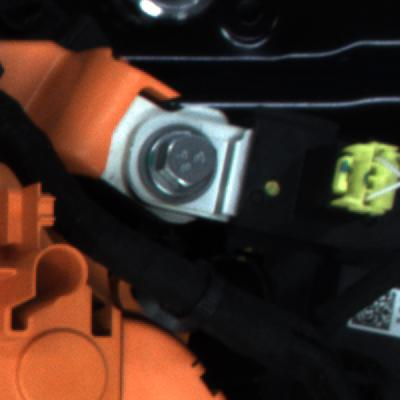nut_b: (139, 119, 224, 209)
